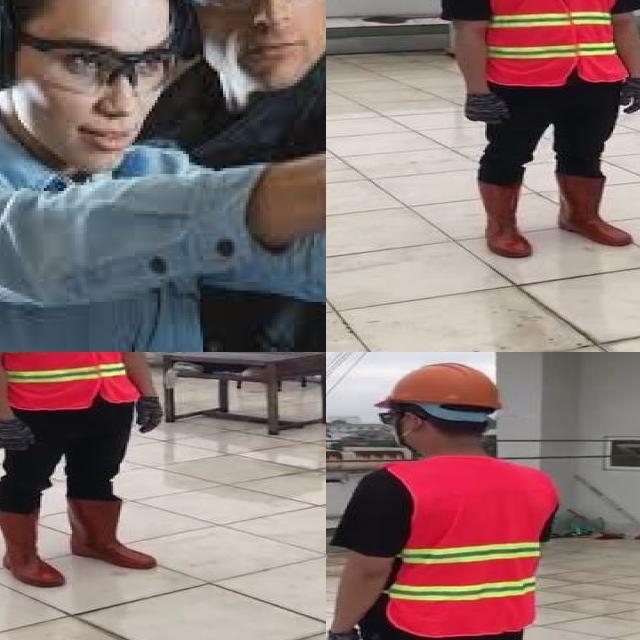boots: (65, 495, 164, 571), (462, 174, 540, 261), (554, 174, 636, 248), (0, 506, 67, 588)
glasses: (10, 20, 180, 100)
hand_glove: (0, 418, 41, 454), (131, 393, 166, 433), (466, 94, 508, 127), (618, 78, 640, 114)
head_helmet: (371, 356, 503, 412)
person: (326, 354, 566, 640), (430, 0, 640, 266), (0, 352, 168, 590)
vest: (381, 457, 560, 635), (485, 0, 632, 86), (0, 352, 141, 412)
